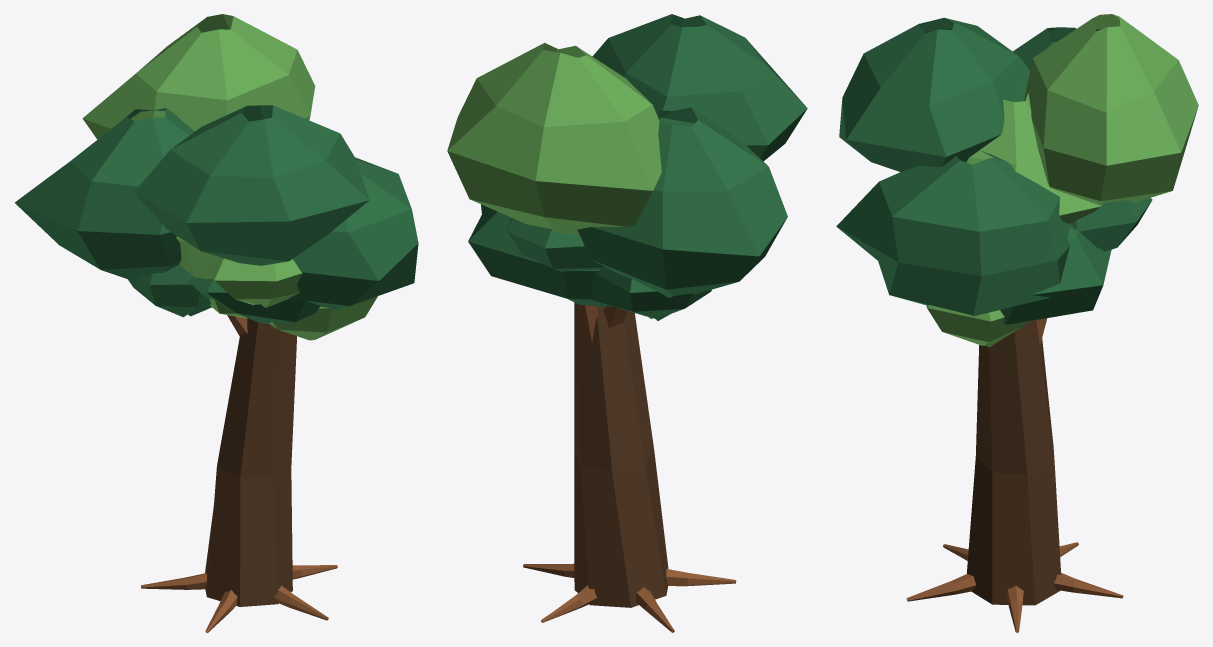
The model's file is tree_d.glb.
The picture shows the model from 3 angles, left to right: view 1: azimuth 30°, elevation 25°; view 2: azimuth 150°, elevation 25°; view 3: azimuth 270°, elevation 25°; orthographic projection. The views are drawn at different scales.
Visible parts, largest first — view 1: TREE_D; view 2: TREE_D; view 3: TREE_D.
Part boxes in pixels (x1,y1,x2,y2): TREE_D: (14,14,418,632); TREE_D: (447,14,807,632); TREE_D: (836,14,1198,632).
Bounding box in the file's own units: 3.91 × 6.16 × 3.52.
